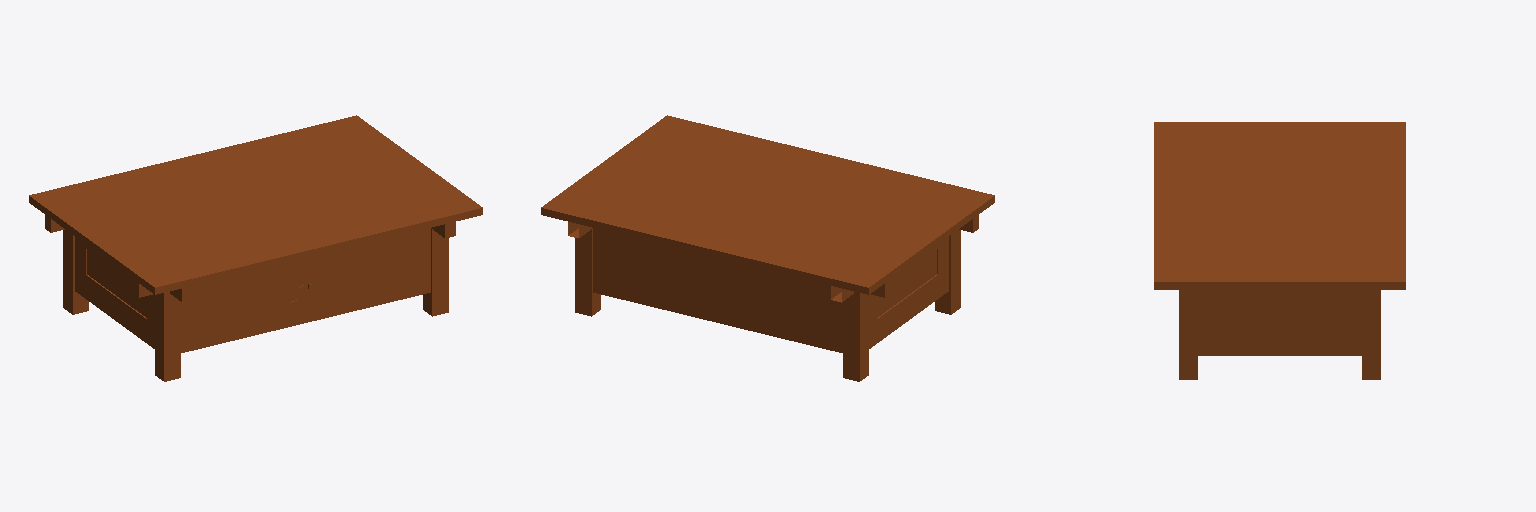
The model's file is Table_Coffee_RiceChest.obj.
The picture shows the model from 3 angles: view 1: azimuth 30°, elevation 25°; view 2: azimuth 150°, elevation 25°; view 3: azimuth 270°, elevation 25°; orthographic projection.
Parts seen in each view (by area): view 1: Mesh10 Half2 Model, Mesh5 Half1 Model; view 2: Mesh10 Half2 Model, Mesh5 Half1 Model; view 3: Mesh5 Half1 Model, Mesh10 Half2 Model.
Boxes of the visible parts, box(x1,y1,x2,y2) form: Mesh10 Half2 Model: box(29, 155, 318, 381); Mesh5 Half1 Model: box(193, 115, 482, 322); Mesh10 Half2 Model: box(705, 155, 994, 381); Mesh5 Half1 Model: box(541, 115, 830, 322); Mesh5 Half1 Model: box(1154, 202, 1405, 379); Mesh10 Half2 Model: box(1154, 122, 1405, 201).
Size of the model in its own units: 60 by 19 by 40.